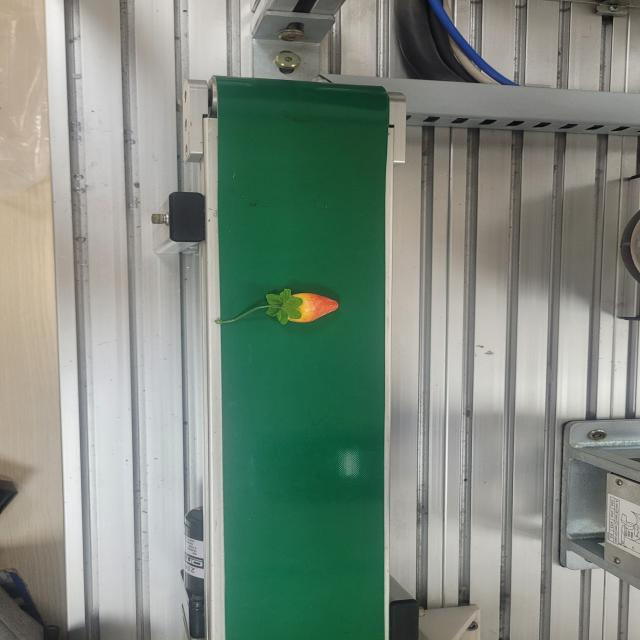Small Unripe Strawberry: (271, 290, 341, 324)
